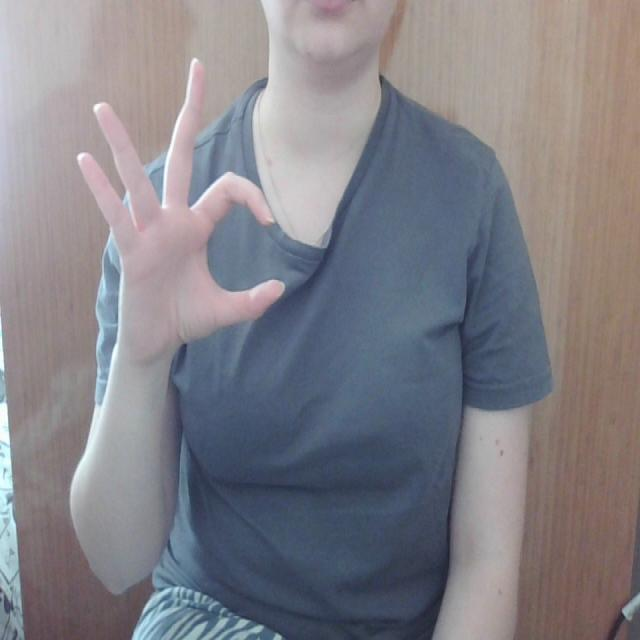Tuvalet: (66, 47, 296, 369)
